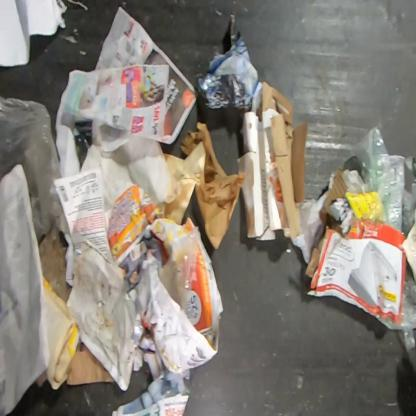cardboard: (237, 80, 308, 241), (305, 221, 407, 330), (318, 164, 376, 238), (65, 337, 119, 385)
soft_plastic: (0, 94, 64, 245), (349, 125, 415, 237), (159, 225, 200, 316), (397, 260, 415, 375), (397, 202, 416, 282), (405, 154, 415, 174)
